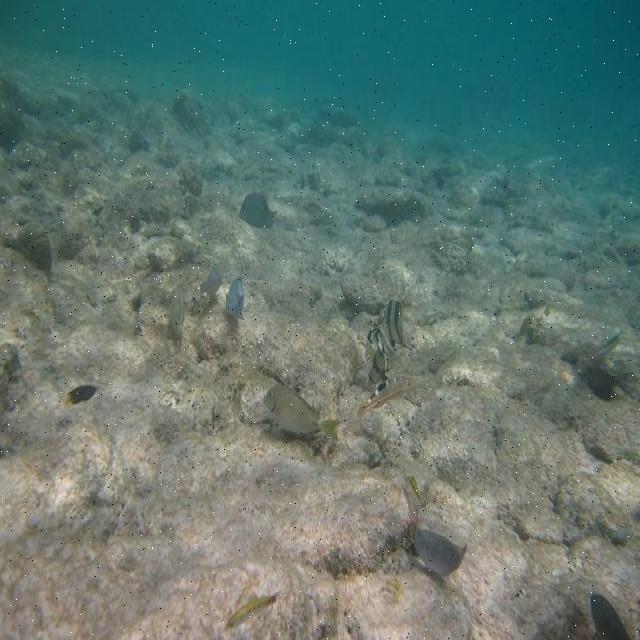fish: (264, 385, 343, 442), (415, 527, 467, 575), (227, 591, 281, 635), (357, 376, 415, 413), (239, 193, 275, 228), (226, 276, 245, 318)
